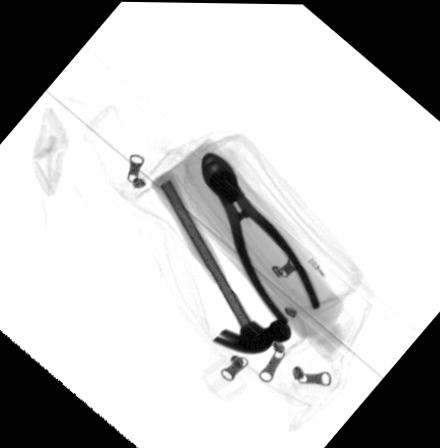Hammer: (150, 170, 291, 354)
Pliers: (199, 151, 319, 324)
